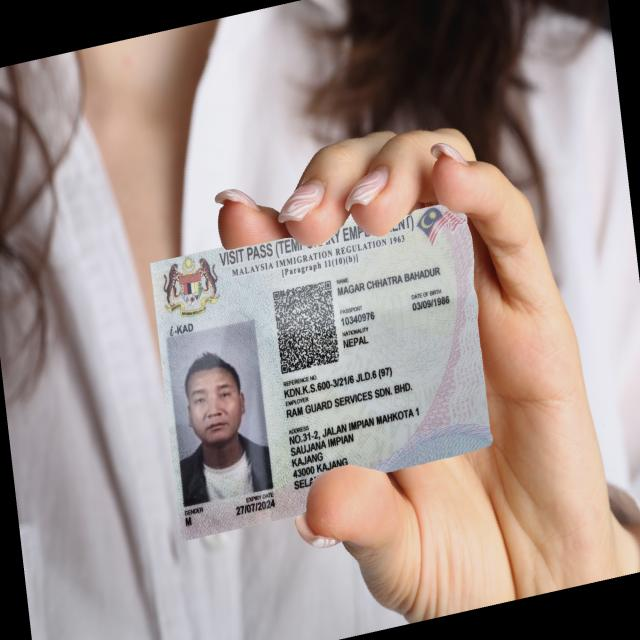ikad-temp: (149, 203, 493, 540)
